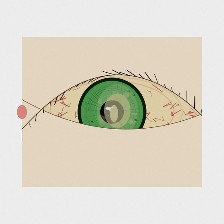corneal_ulcer: (90, 88, 145, 133)
